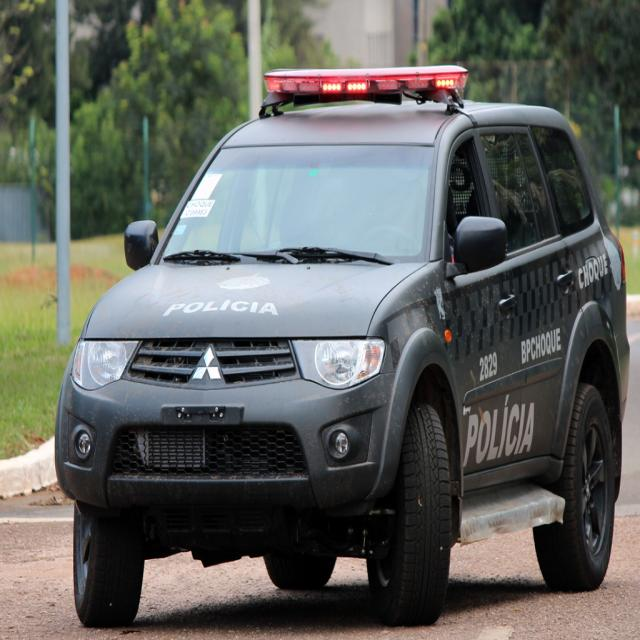car: (54, 66, 629, 624)
